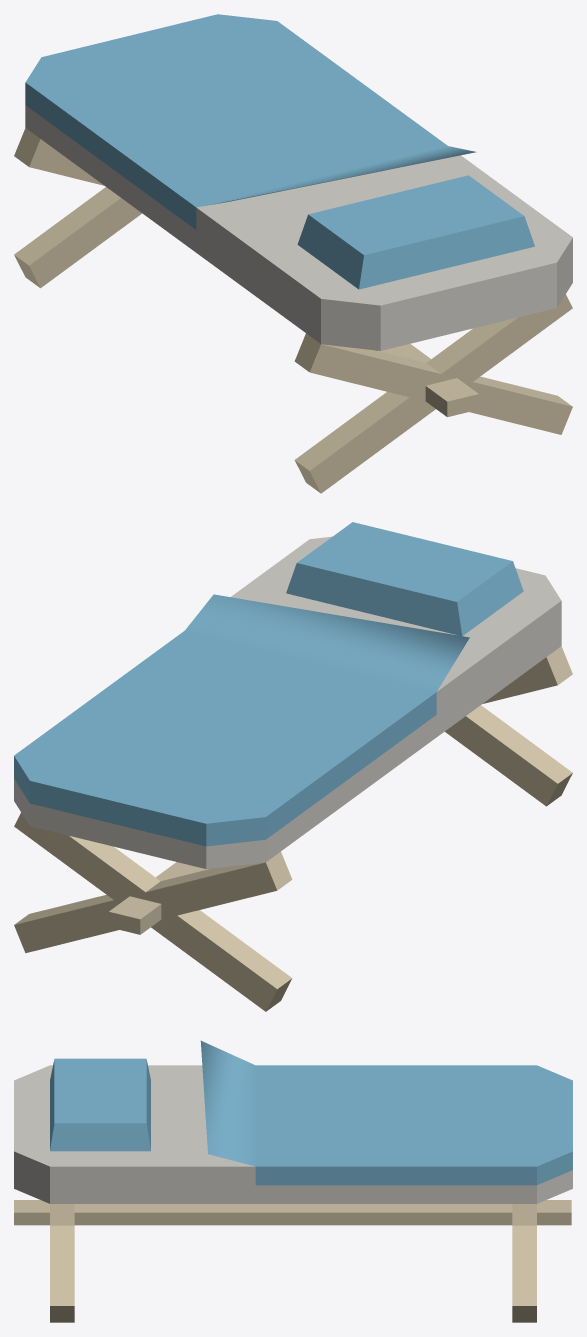
The model's file is cc0-bed-lod1.glb.
The picture shows the model from 3 angles, top to bottom: view 1: azimuth 30°, elevation 25°; view 2: azimuth 150°, elevation 25°; view 3: azimuth 270°, elevation 25°; orthographic projection. The views are drawn at different scales.
Parts seen in each view (by area): view 1: part_0; view 2: part_0; view 3: part_0.
Boxes of the visible parts, x1,y1,x2,y2 form: part_0: (14,14,572,493); part_0: (14,522,572,1011); part_0: (14,1040,572,1322).
Bounding box in the file's own units: 0.3349 × 0.2737 × 0.7473.
